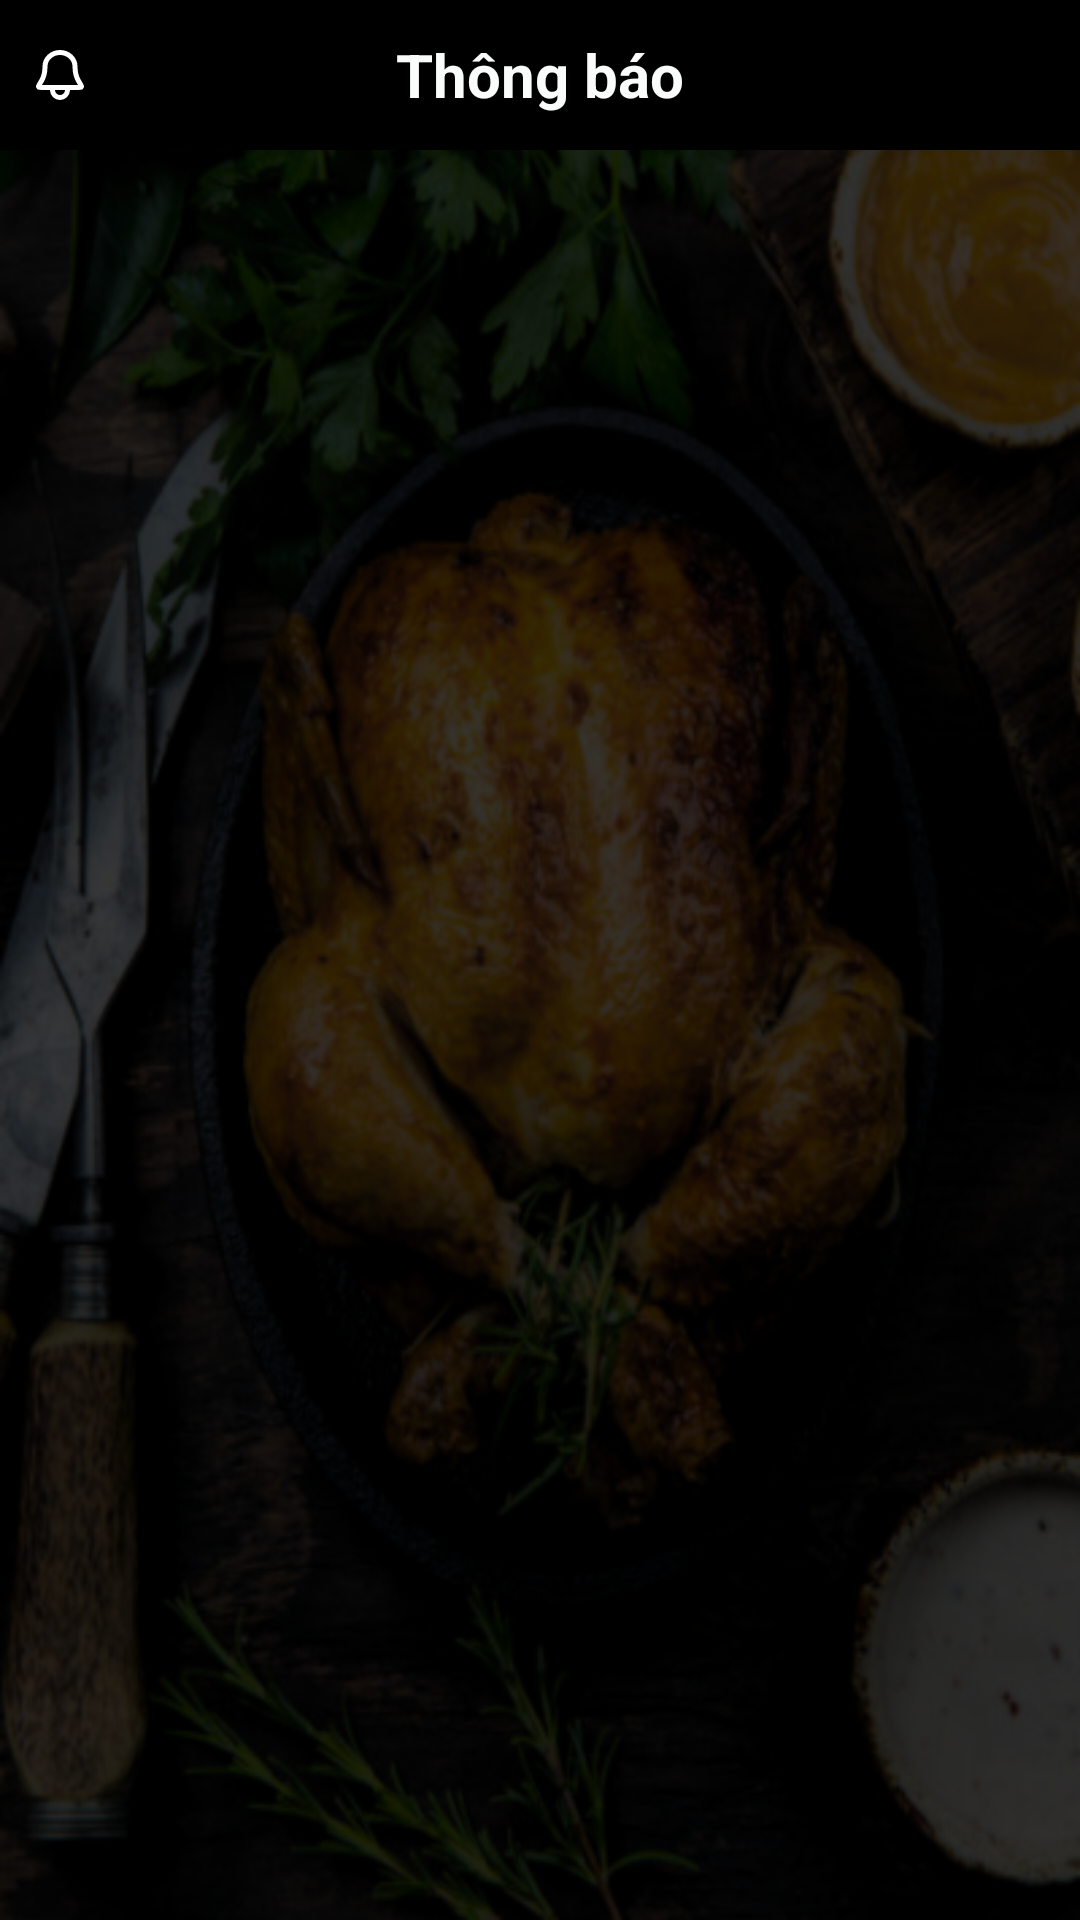

Named icons in this screenshot (1080w x 1920h) and their bounding boxes, bbox=[x1, y1, x2, y2]:
bell: bbox=[36, 50, 84, 100]
